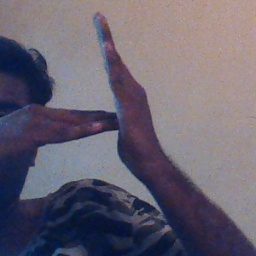Z: (36, 11, 156, 165)
